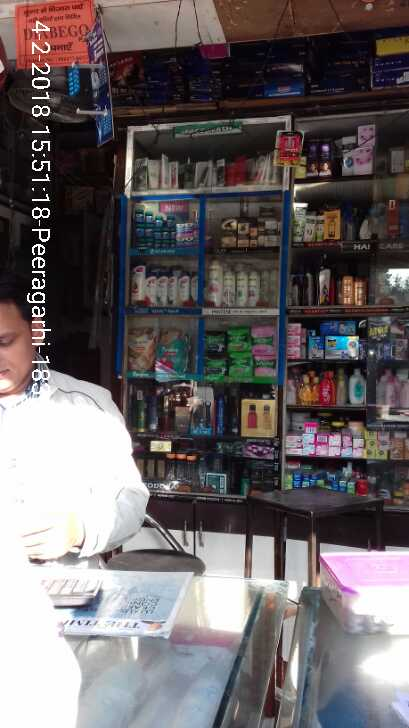vicks: (129, 206, 201, 251)
